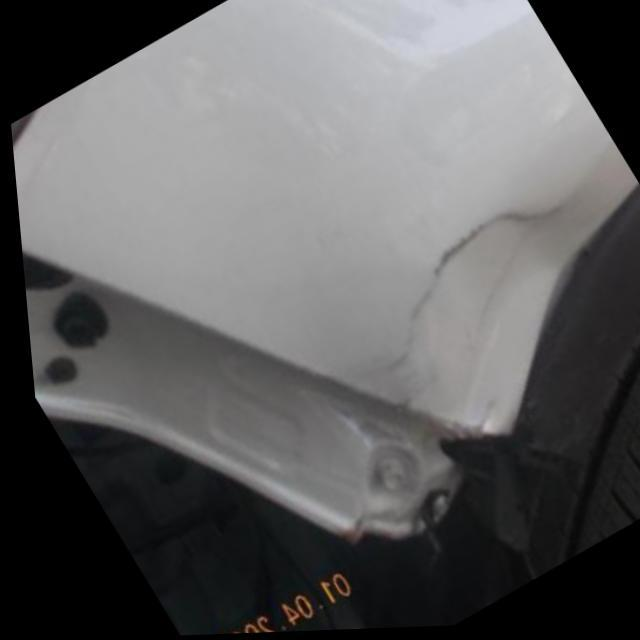crack: (406, 189, 562, 335)
dent: (322, 194, 601, 438)
